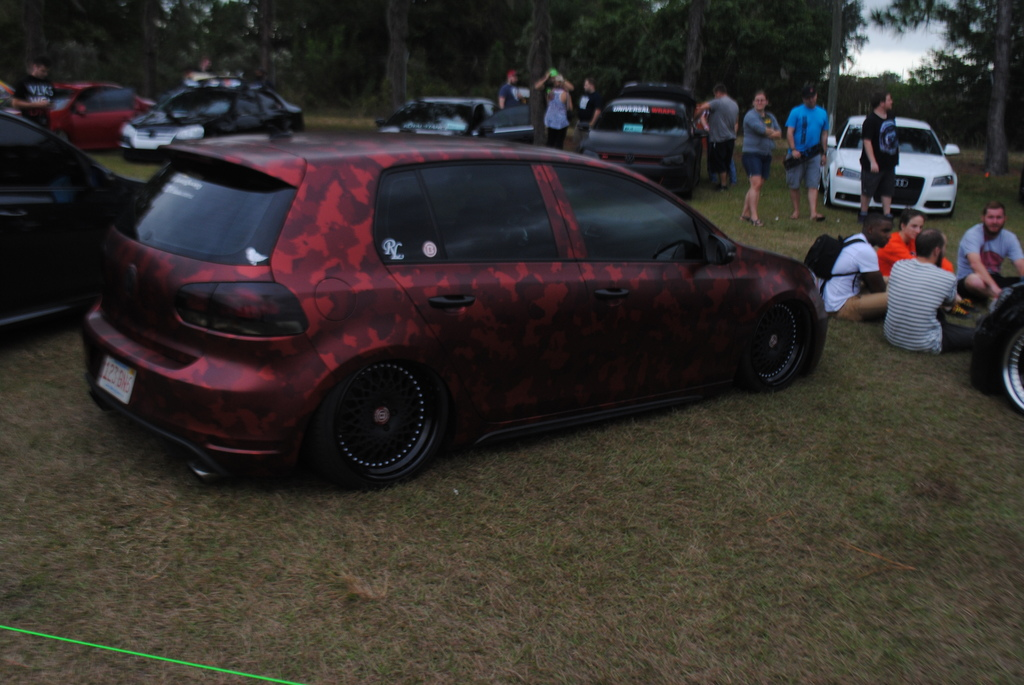Person: (11, 56, 1023, 353)
